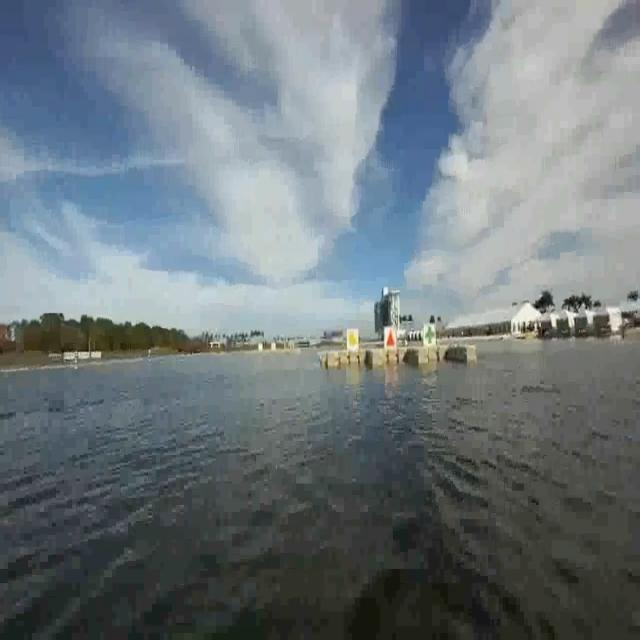blue-cross: (426, 320, 438, 351)
red-dot: (385, 328, 397, 352)
yellow-duck: (347, 326, 357, 353)
